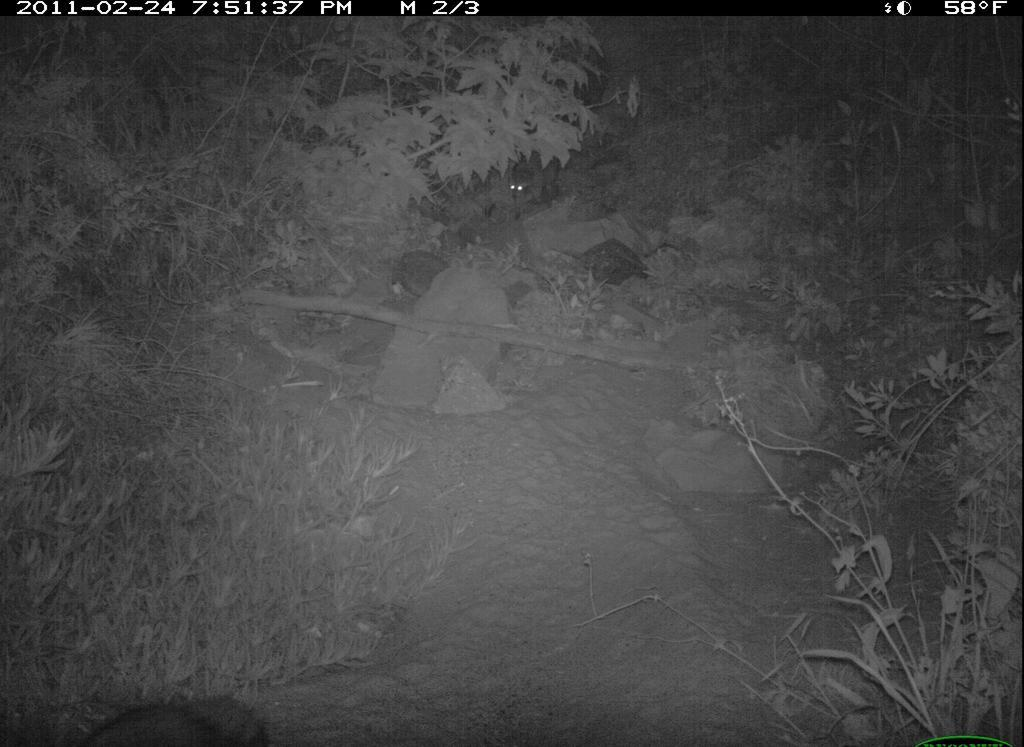raccoon: (496, 122, 625, 225), (76, 692, 273, 744)
